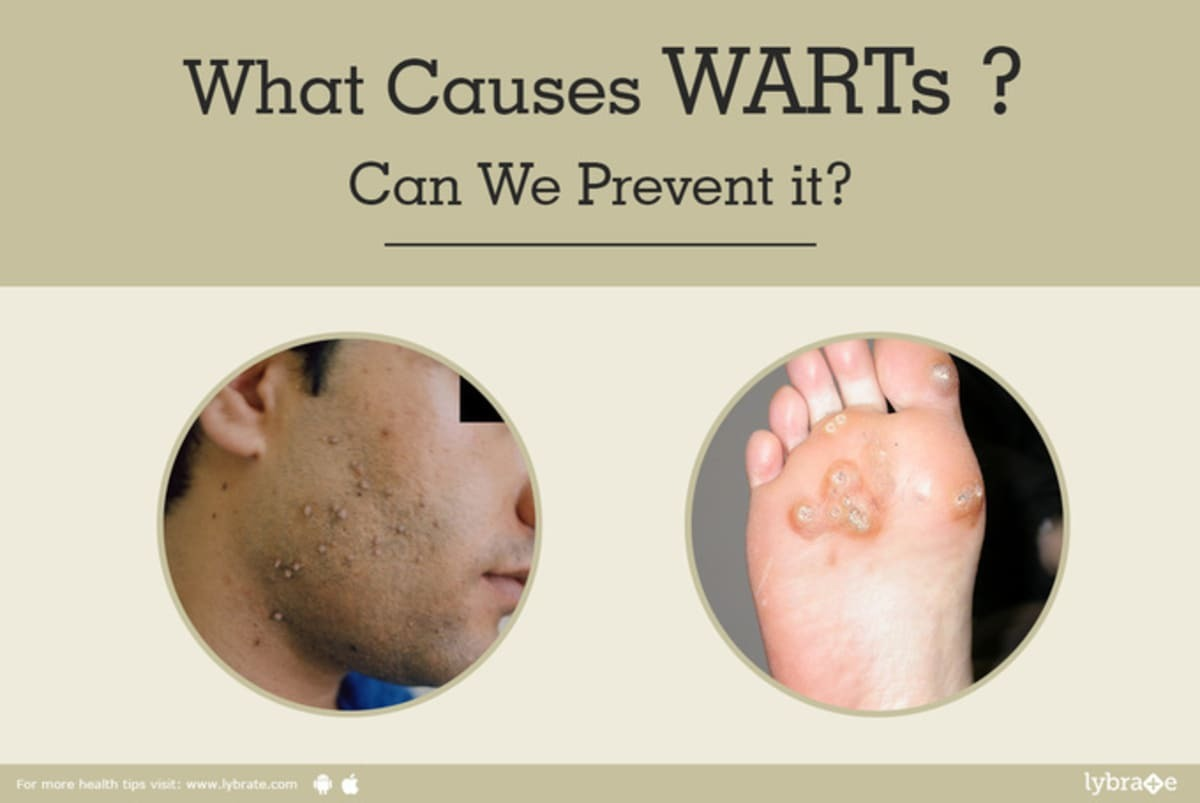Warts: (749, 366, 985, 560), (249, 435, 440, 648)
